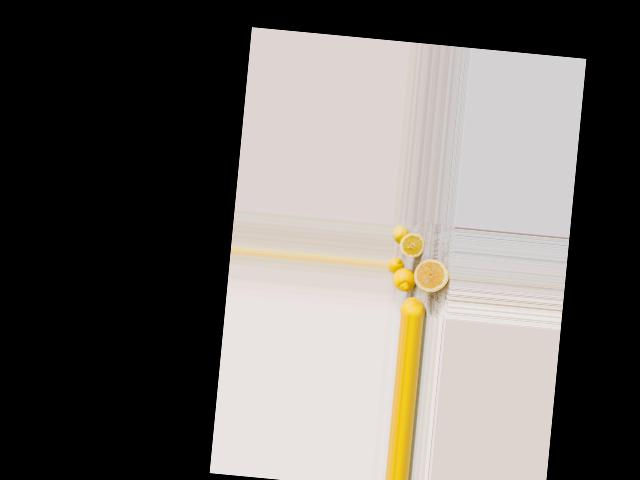lemon: (399, 293, 428, 317)
